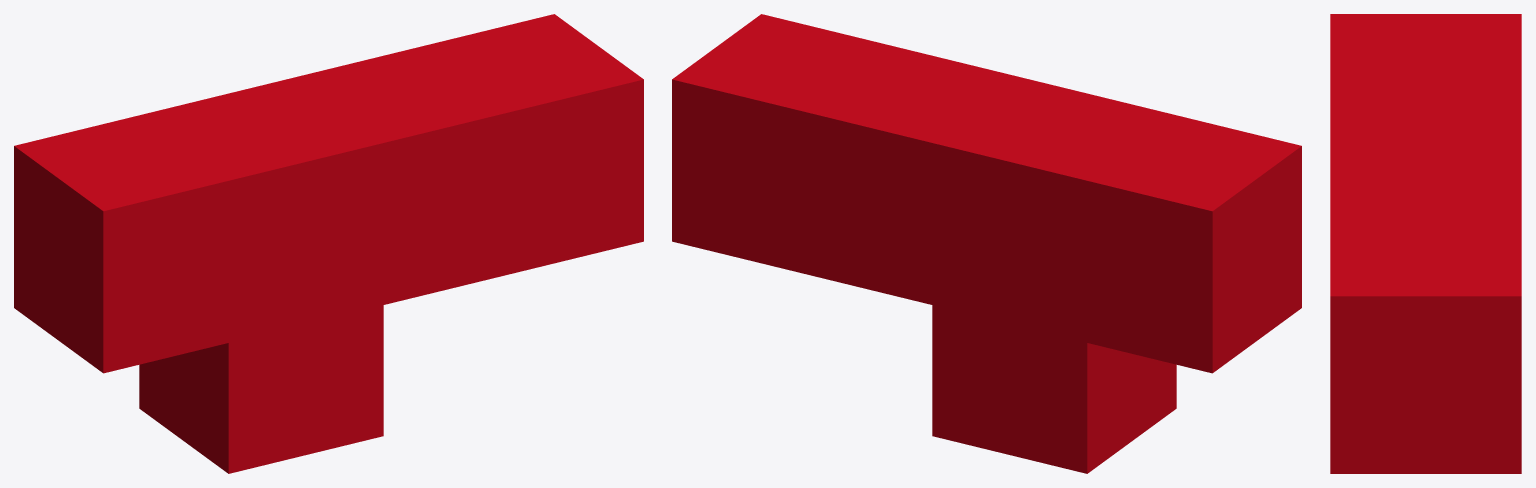
The model's file is UCX_vent_segm_T.fbx.
3 views of the same model, side by side, from view 1: azimuth 30°, elevation 25°; view 2: azimuth 150°, elevation 25°; view 3: azimuth 270°, elevation 25° (orthographic). The views are drawn at different scales.
Parts seen in each view (by area): view 1: UCX_vent_segm_T; view 2: UCX_vent_segm_T; view 3: UCX_vent_segm_T.
Boxes of the visible parts, x1,y1,x2,y2 form: UCX_vent_segm_T: [14, 14, 643, 473]; UCX_vent_segm_T: [672, 14, 1301, 473]; UCX_vent_segm_T: [1330, 14, 1521, 473].
Bounding box in the file's own units: 1 × 0.5184 × 0.2867.
